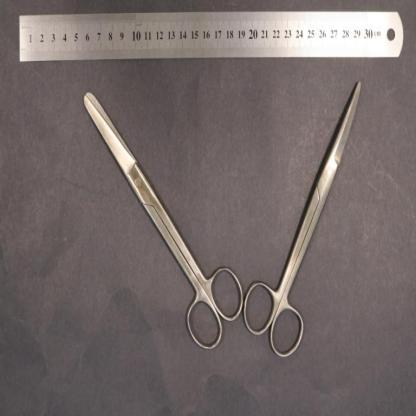Curved Mayo Scissors: (242, 80, 362, 362)
Dressing Scissors: (84, 92, 244, 353)
